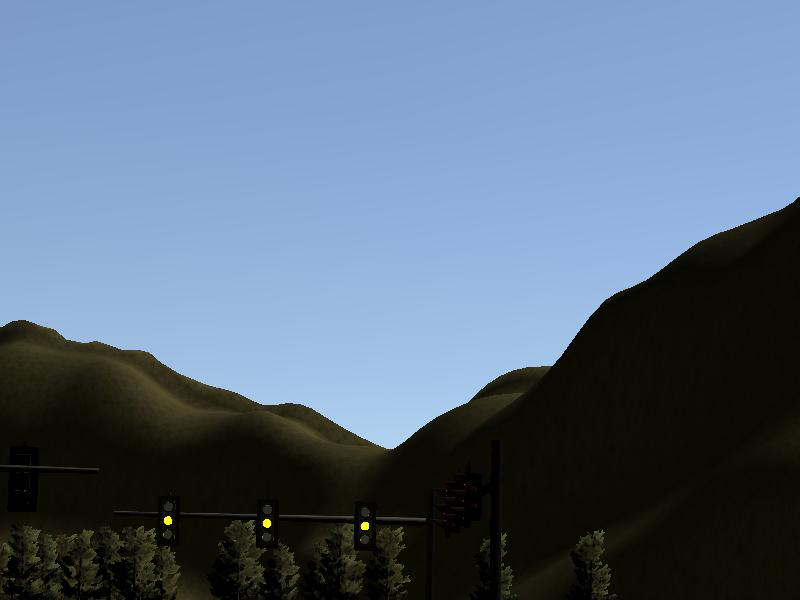yellow: (256, 497, 279, 549), (159, 492, 180, 548), (355, 499, 375, 550)
